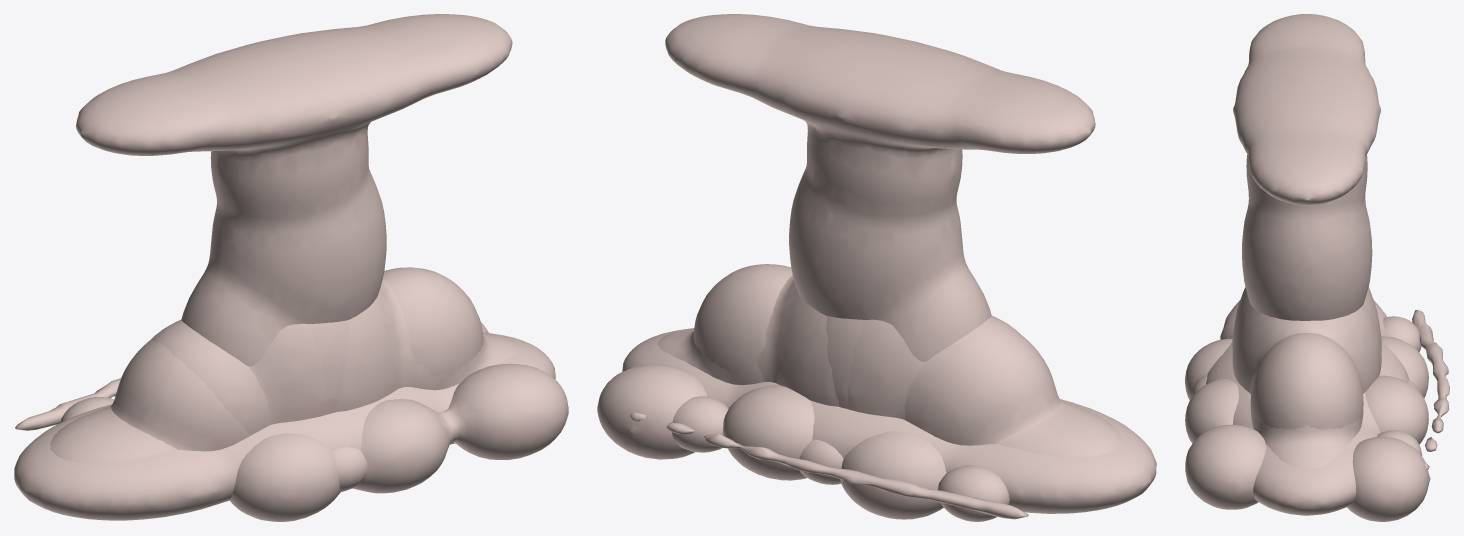
Rendered from clay-clouds.glb.
3 renders of one model, left to right at view 1: azimuth 30°, elevation 25°; view 2: azimuth 150°, elevation 25°; view 3: azimuth 270°, elevation 25°, orthographic. The views are drawn at different scales.
Parts seen in each view (by area): view 1: Cb, Sc, Cu_1, Ns, Cu_2, Cu_0, Ac, Ci; view 2: Cb, Cu_1, Sc, Ns, Cu_2, Cu_0, Ac, Ci; view 3: Cb, Sc, Cu_1, Cu_0, Ns, Ci, Ac, Cu_2.
Boxes of the visible parts, left/top/right/bottom form: Cb: left=76, top=14, right=512, bottom=366; Sc: left=230, top=322, right=568, bottom=521; Cu_1: left=111, top=267, right=483, bottom=451; Ns: left=14, top=332, right=555, bottom=520; Cu_2: left=50, top=320, right=437, bottom=463; Cu_0: left=242, top=279, right=519, bottom=439; Ac: left=60, top=397, right=367, bottom=491; Ci: left=15, top=378, right=120, bottom=430; Cb: left=665, top=14, right=1095, bottom=361; Cu_1: left=693, top=264, right=1060, bottom=445; Sc: left=597, top=364, right=946, bottom=519; Ns: left=622, top=328, right=1156, bottom=513; Cu_2: left=740, top=315, right=1120, bottom=457; Cu_0: left=657, top=275, right=931, bottom=434; Ac: left=672, top=396, right=1009, bottom=521; Ci: left=630, top=412, right=1028, bottom=519; Cb: left=1233, top=14, right=1380, bottom=320; Sc: left=1185, top=336, right=1430, bottom=521; Cu_1: left=1232, top=287, right=1381, bottom=429; Cu_0: left=1232, top=303, right=1381, bottom=468; Ns: left=1206, top=300, right=1408, bottom=515; Ci: left=1412, top=310, right=1449, bottom=469; Ac: left=1192, top=316, right=1422, bottom=455; Cu_2: left=1232, top=289, right=1381, bottom=351.
Bounding box in the file's own units: 11.61 × 9.1 × 5.95.
